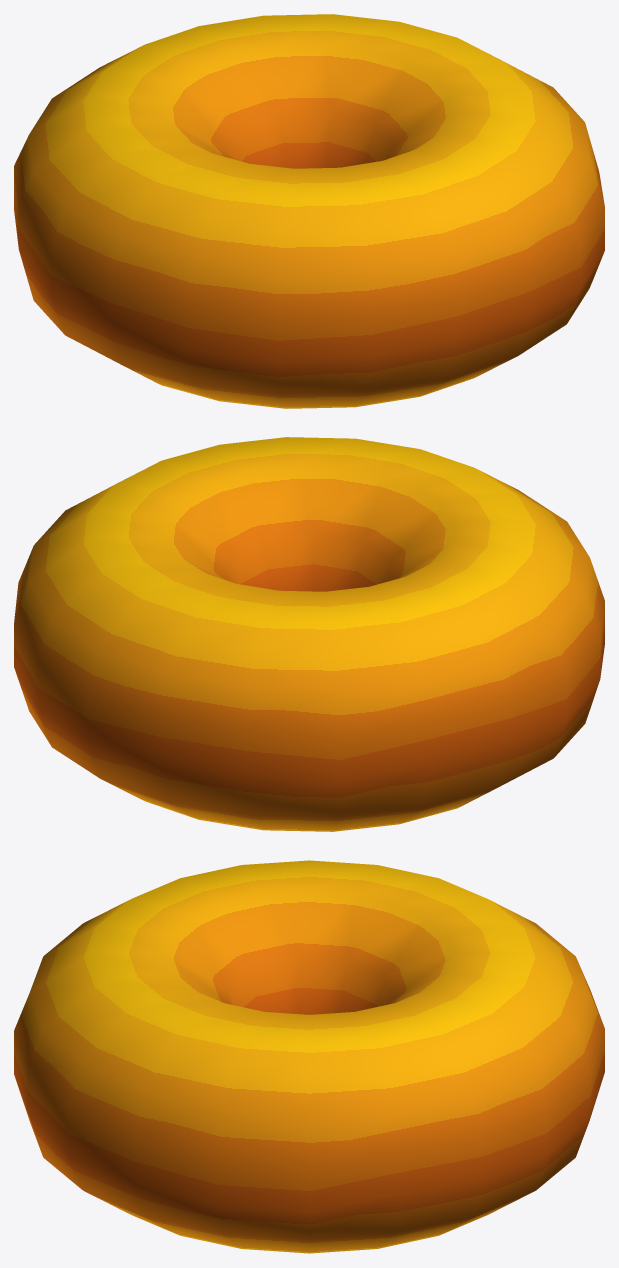
File: donut.fbx
3 views of the same model, one above another, from view 1: azimuth 30°, elevation 25°; view 2: azimuth 150°, elevation 25°; view 3: azimuth 270°, elevation 25° (orthographic).
Visible parts, largest first — view 1: Original; view 2: Original; view 3: Original.
Part boxes in pixels (left/top/right/bottom): Original: left=14, top=14, right=604, bottom=408; Original: left=14, top=437, right=604, bottom=831; Original: left=14, top=860, right=604, bottom=1253.
Size of the model in its own units: 85.87 by 33.29 by 86.03.
